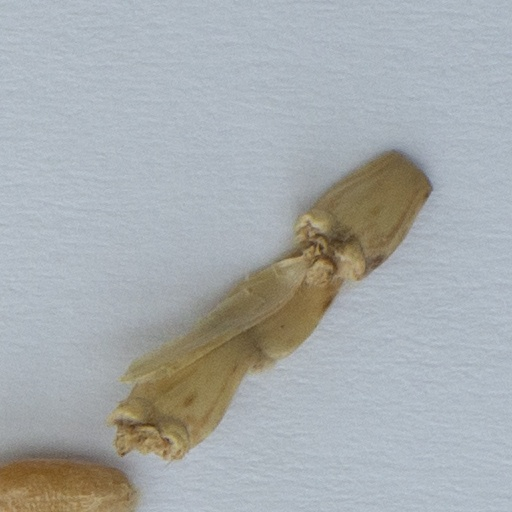Peel-poly: (112, 153, 434, 458)
